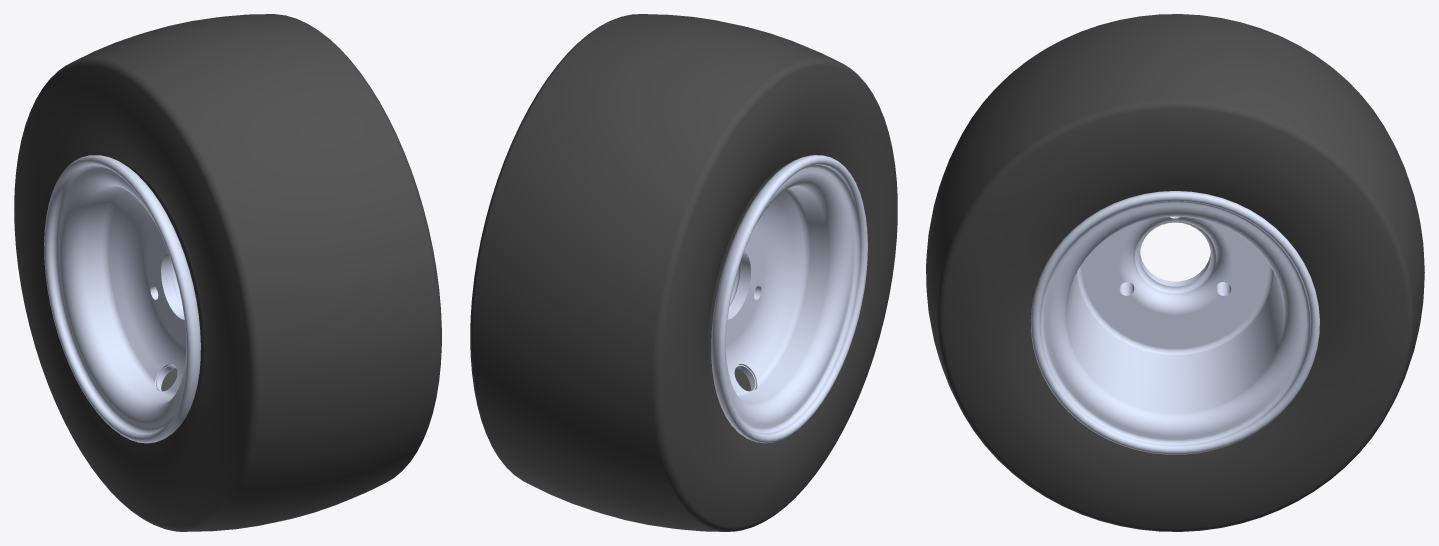
File: front_wheel.obj
3 renders of one model, left to right at view 1: azimuth 30°, elevation 25°; view 2: azimuth 150°, elevation 25°; view 3: azimuth 270°, elevation 25°, orthographic.
Parts seen in each view (by area): view 1: mesh56, mesh58, mesh29, mesh57, mesh26, mesh37, mesh30, mesh27, mesh36, mesh25, mesh34, mesh55 (+4 smaller); view 2: mesh56, mesh58, mesh29, mesh57, mesh26, mesh37, mesh30, mesh27, mesh36, mesh25, mesh34, mesh55 (+4 smaller); view 3: mesh54, mesh56, mesh7, mesh6, mesh38, mesh55, mesh3, mesh42, mesh4, mesh5, mesh8, mesh44.
Part boxes in pixels (<box>): mesh56: <box>75,14,438,531</box>; mesh58: <box>14,65,250,526</box>; mesh29: <box>59,172,186,424</box>; mesh57: <box>14,57,259,531</box>; mesh26: <box>44,155,193,443</box>; mesh37: <box>119,198,186,382</box>; mesh30: <box>83,186,172,403</box>; mesh27: <box>51,165,173,433</box>; mesh36: <box>109,191,180,391</box>; mesh25: <box>89,155,200,439</box>; mesh34: <box>101,188,176,396</box>; mesh55: <box>285,15,441,477</box>; mesh56: <box>473,14,838,531</box>; mesh58: <box>661,65,897,526</box>; mesh29: <box>725,172,852,424</box>; mesh57: <box>652,57,897,531</box>; mesh26: <box>718,155,867,443</box>; mesh37: <box>725,198,792,382</box>; mesh30: <box>739,186,828,403</box>; mesh27: <box>739,165,860,433</box>; mesh36: <box>731,191,802,391</box>; mesh25: <box>711,155,822,439</box>; mesh34: <box>735,188,810,396</box>; mesh55: <box>470,14,630,474</box>; mesh54: <box>943,109,1406,528</box>; mesh56: <box>926,14,1424,408</box>; mesh7: <box>1066,273,1284,413</box>; mesh6: <box>1048,206,1302,436</box>; mesh38: <box>1081,221,1268,348</box>; mesh55: <box>937,100,1413,531</box>; mesh3: <box>1030,192,1319,454</box>; mesh42: <box>1118,217,1232,315</box>; mesh4: <box>1040,201,1310,445</box>; mesh5: <box>1044,203,1305,439</box>; mesh8: <box>1076,264,1273,355</box>; mesh44: <box>1134,221,1216,294</box>.
Bounding box in the file's own units: 0.1343 × 0.2672 × 0.2671.
